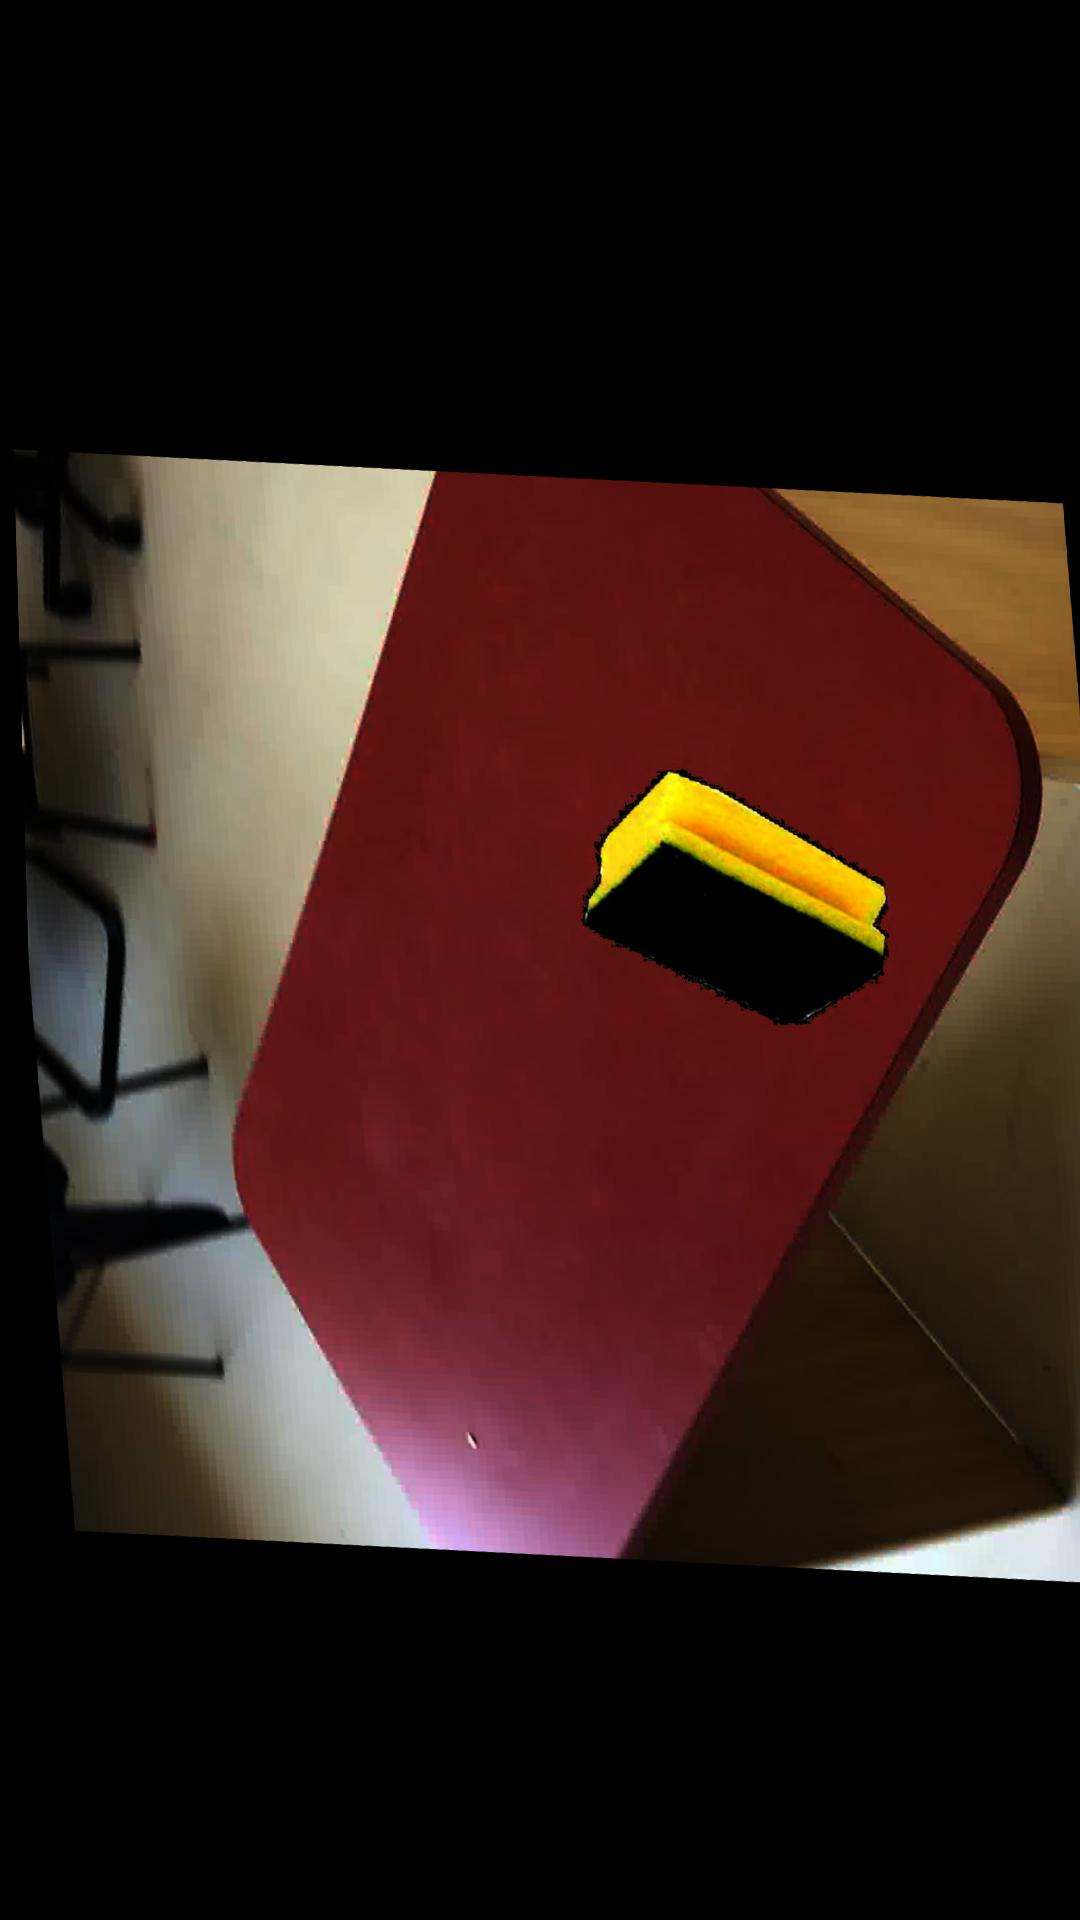sponge: (575, 752, 881, 1006)
